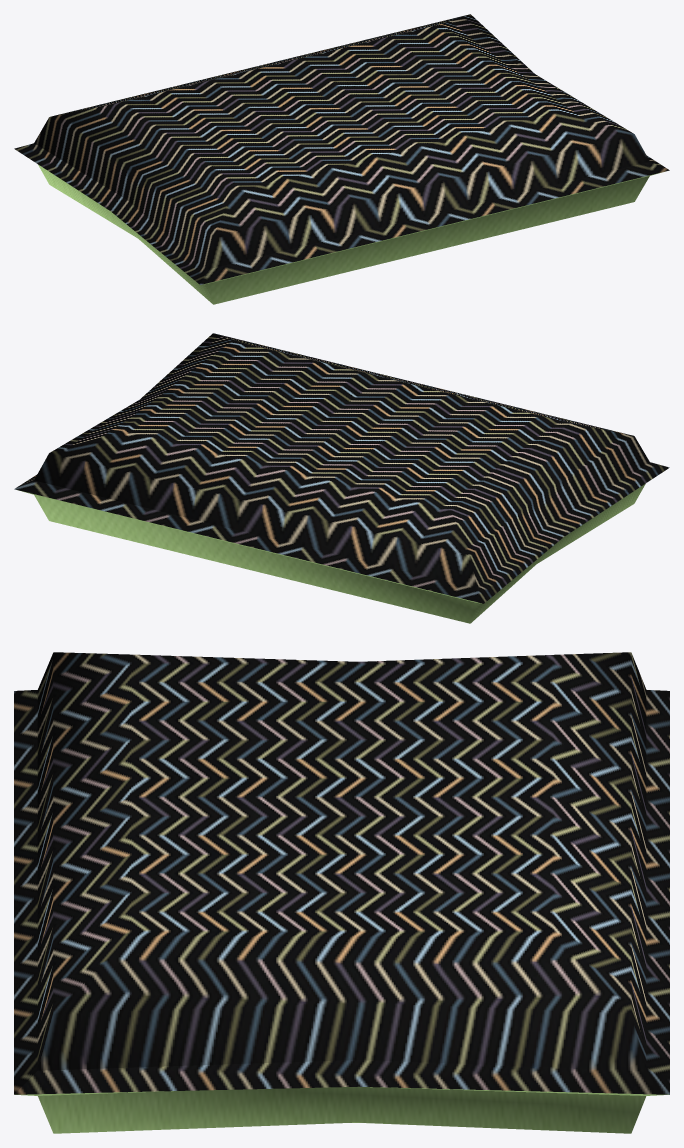
Rendered from Pillow_F_4.FBX.
3 views of the same model, one above another, from view 1: azimuth 30°, elevation 25°; view 2: azimuth 150°, elevation 25°; view 3: azimuth 270°, elevation 25° (orthographic). The views are drawn at different scales.
Parts seen in each view (by area): view 1: Pillow; view 2: Pillow; view 3: Pillow.
Boxes of the visible parts, x1,y1,x2,y2 form: Pillow: (14, 14, 669, 304); Pillow: (14, 333, 669, 623); Pillow: (14, 652, 669, 1133).
Size of the model in its own units: 194 by 41.64 by 133.
